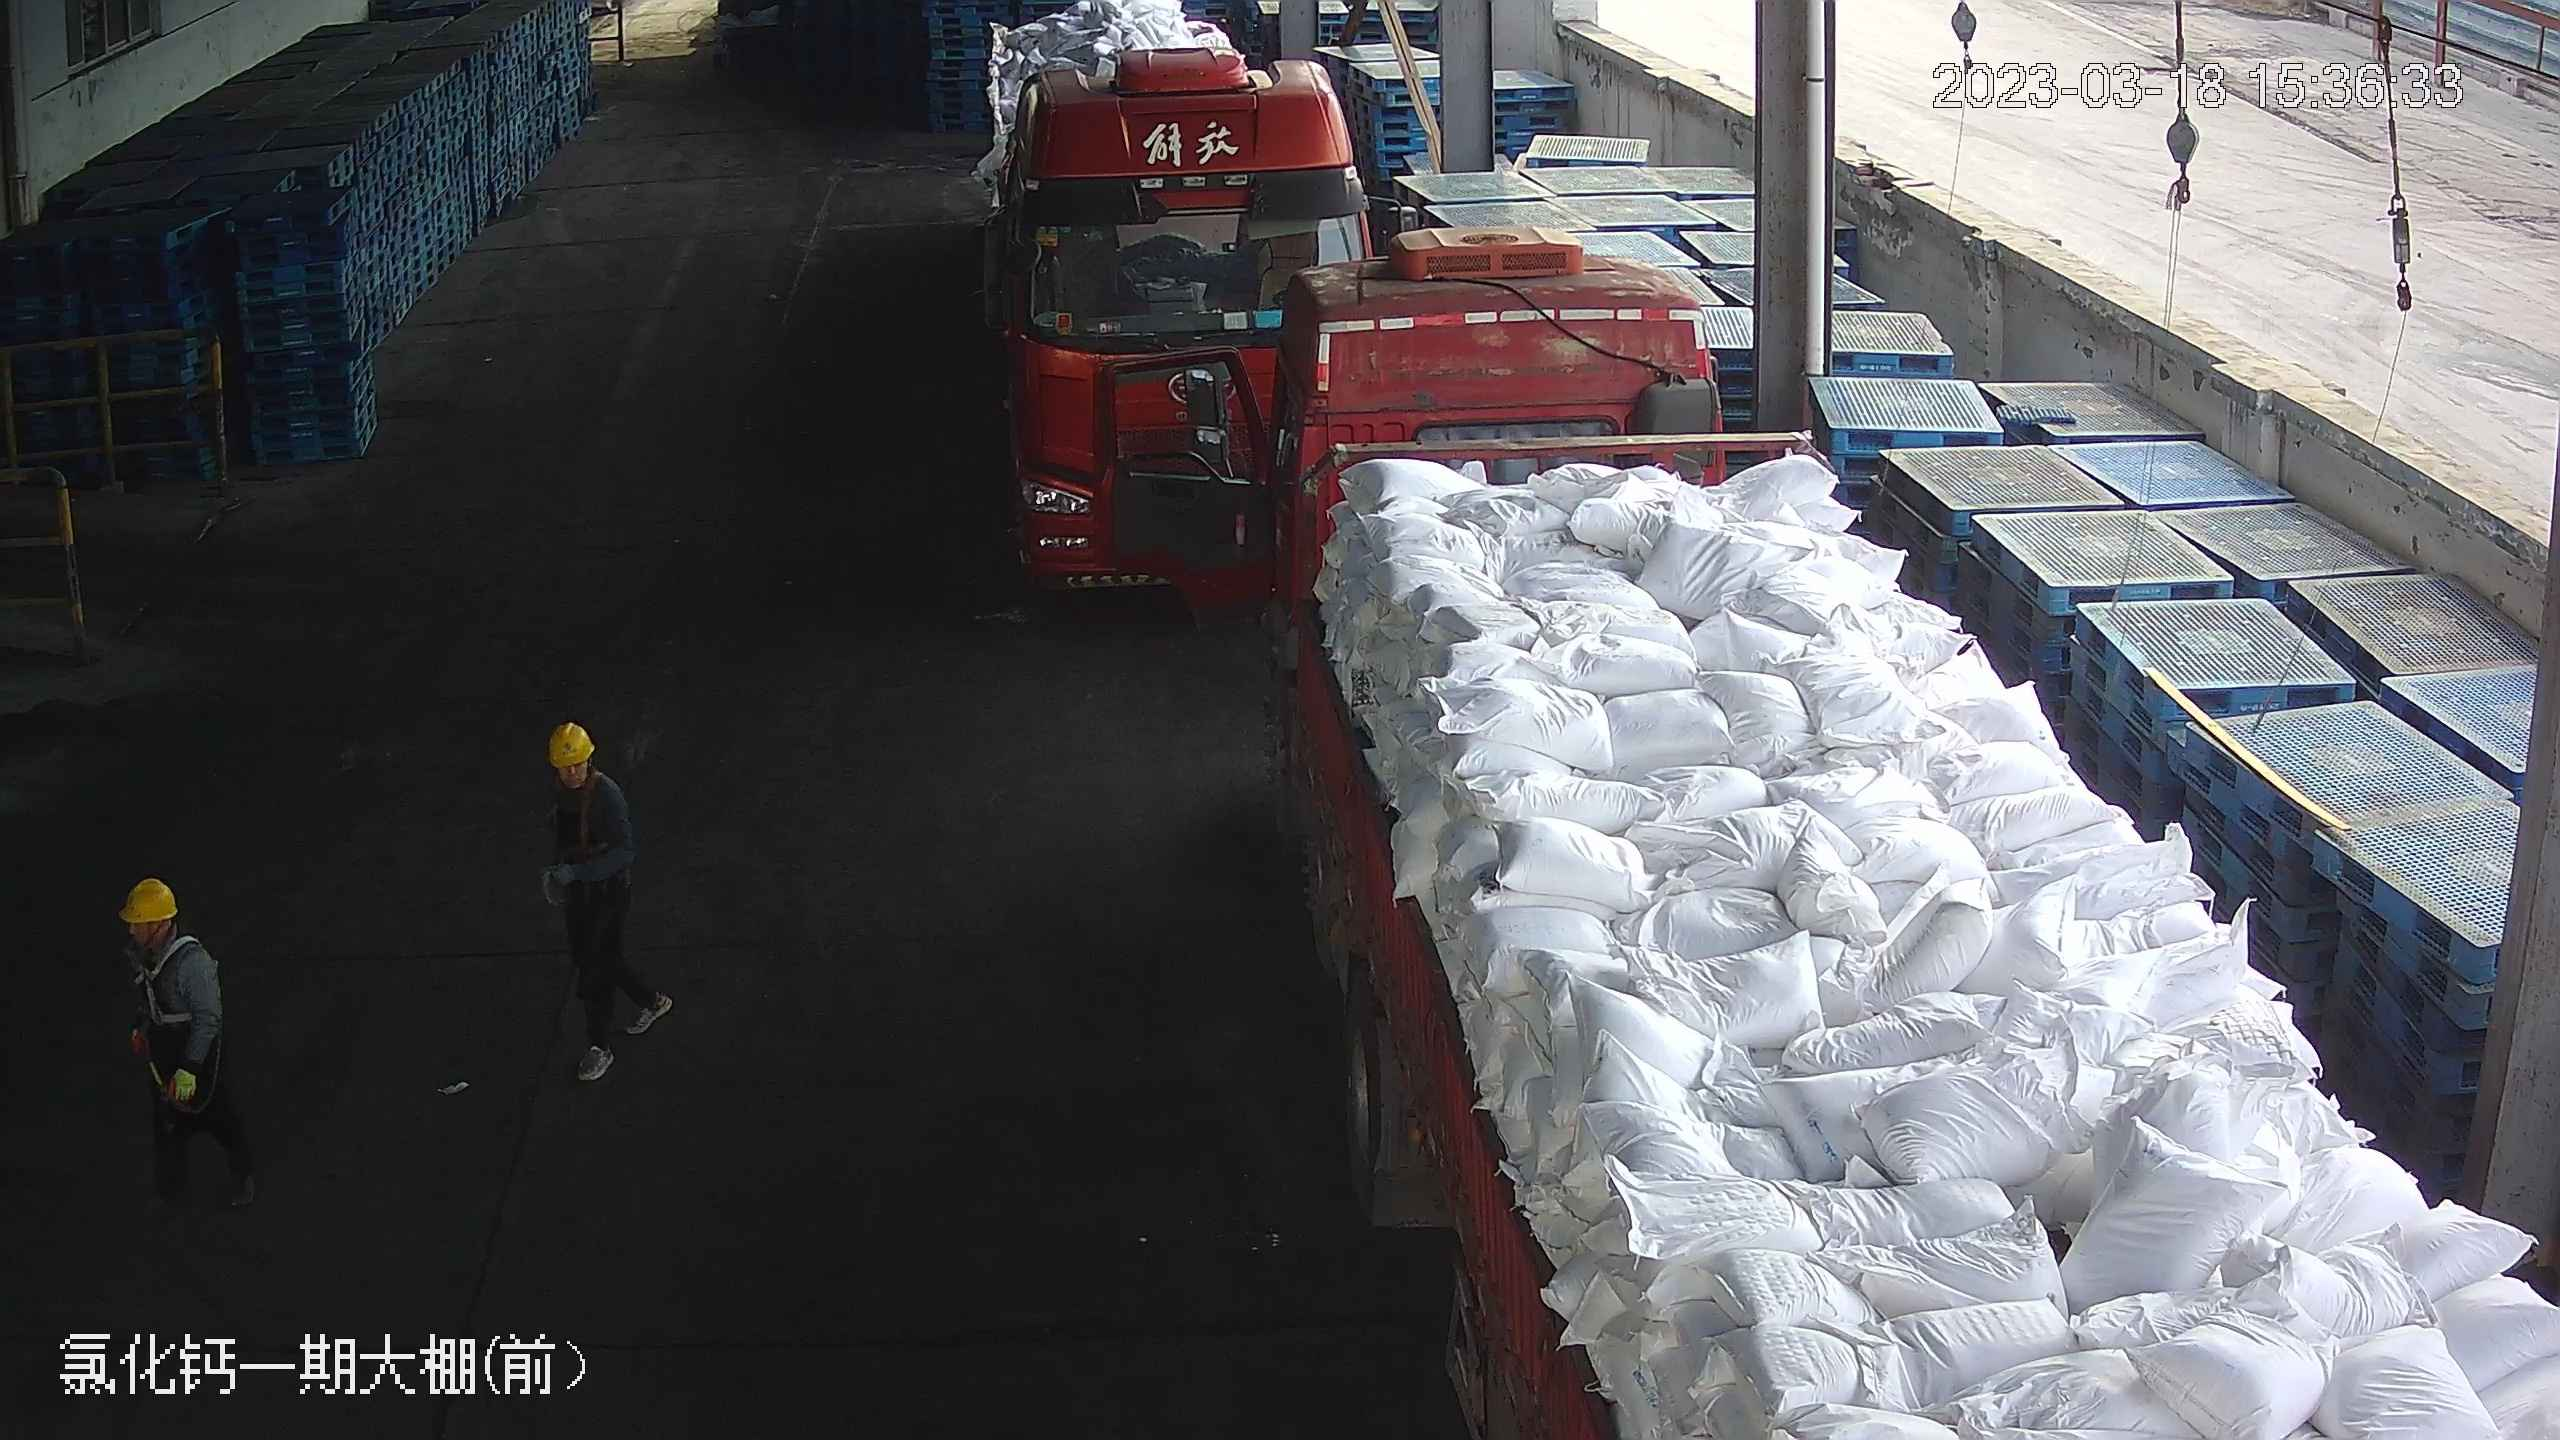belt: (124, 932, 206, 1023), (547, 769, 601, 849)
head: (108, 875, 255, 1216), (108, 876, 224, 1025), (534, 719, 633, 855)
helmet: (118, 877, 179, 923), (544, 719, 596, 765)
people: (528, 721, 675, 1090), (108, 877, 257, 1217)
truck: (1205, 190, 2518, 1440), (967, 12, 1392, 610)
